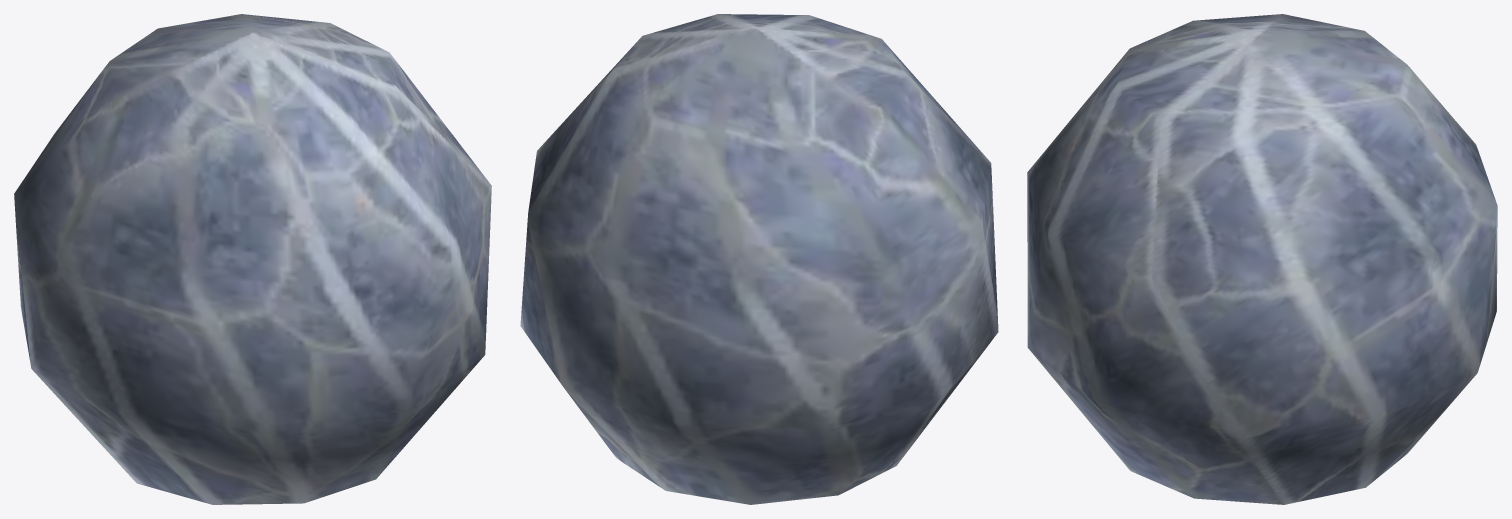
File: KM_WATERPEARL.glb
3 views of the same model, side by side, from view 1: azimuth 30°, elevation 25°; view 2: azimuth 150°, elevation 25°; view 3: azimuth 270°, elevation 25° (orthographic).
Parts seen in each view (by area): view 1: Mesh; view 2: Mesh; view 3: Mesh.
Part boxes in pixels (bbox=[...]): Mesh: bbox=[14, 14, 491, 504]; Mesh: bbox=[520, 14, 998, 504]; Mesh: bbox=[1027, 14, 1497, 504].
Bounding box in the file's own units: 0.155 × 0.1645 × 0.1543.
1 material, 1 textured.
